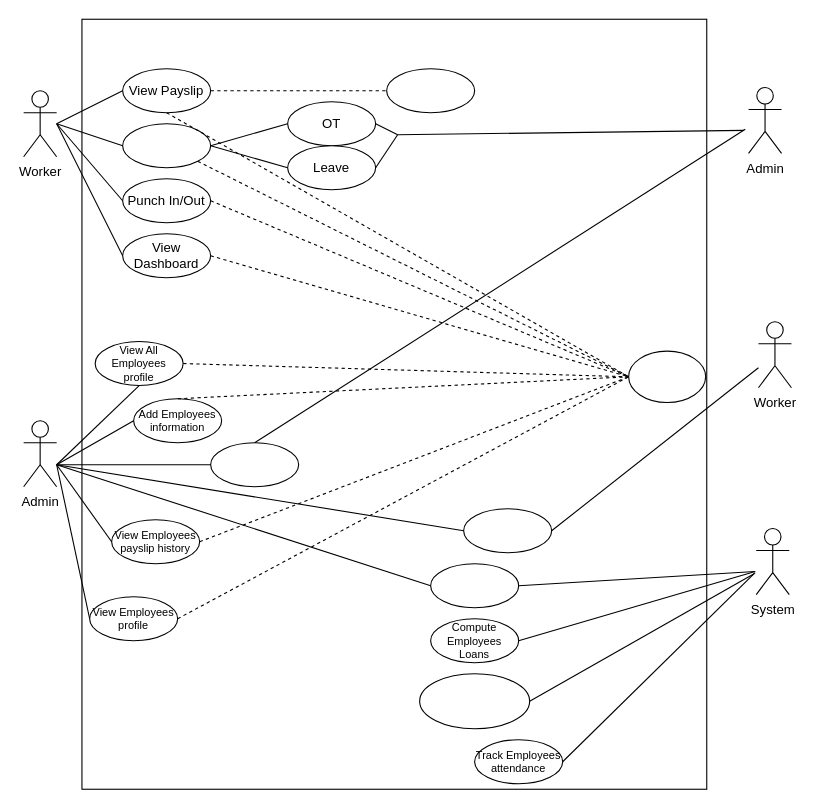
The diagram is 814 pixels wide and 809 high, and some of its shapes have lost their labels. The shapes that lost their labels are listed below. From the top down, each one's centre as x and y in pixels, then its label:
At [430,90]: "Print Payslip".
At [166,145]: "Requests".
At [667,376]: "Login".
At [254,464]: "Prepare Cheque".
At [507,530]: "Distribute Cheque".
At [474,585]: "Compute Employees Salary".
At [474,701]: "Compute Employees Contribution of Taxes".
